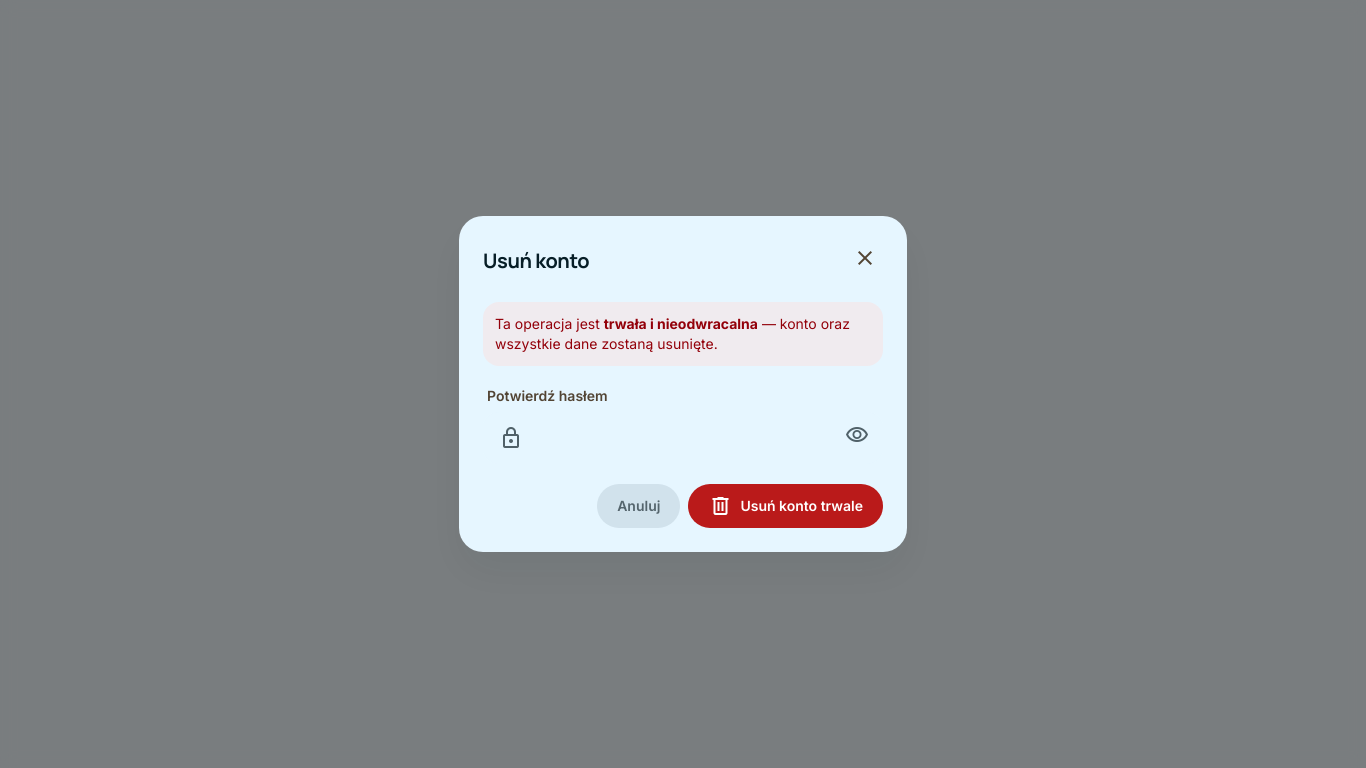
Scenario: DeleteAccountDialog › sukces → czyści sesję i przenosi na stronę główną
Type "haslo123" into the password field labelled "Potwierdź hasłem" at (683, 438), box top-left (483, 412), bottom-right (883, 464)
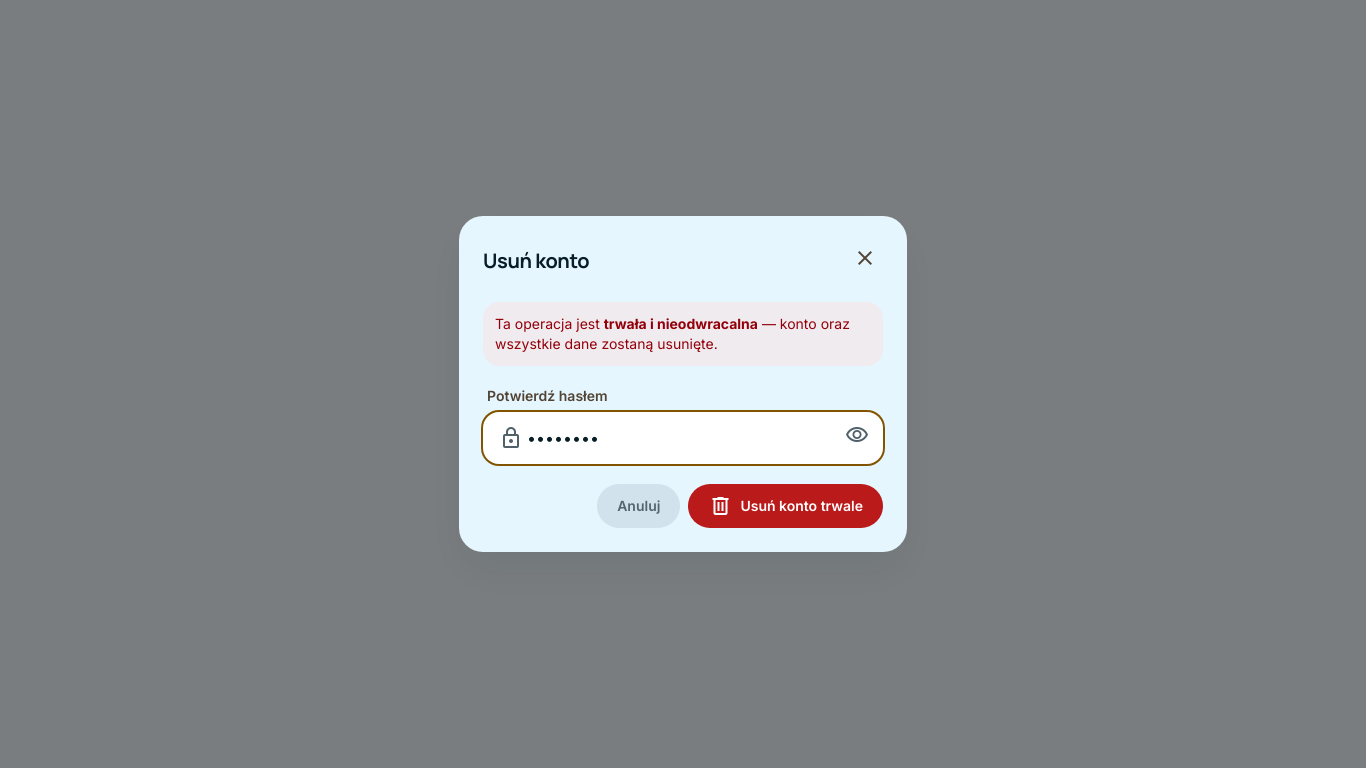
Click the button "Usuń konto trwale" at (786, 506), box top-left (688, 484), bottom-right (883, 528)
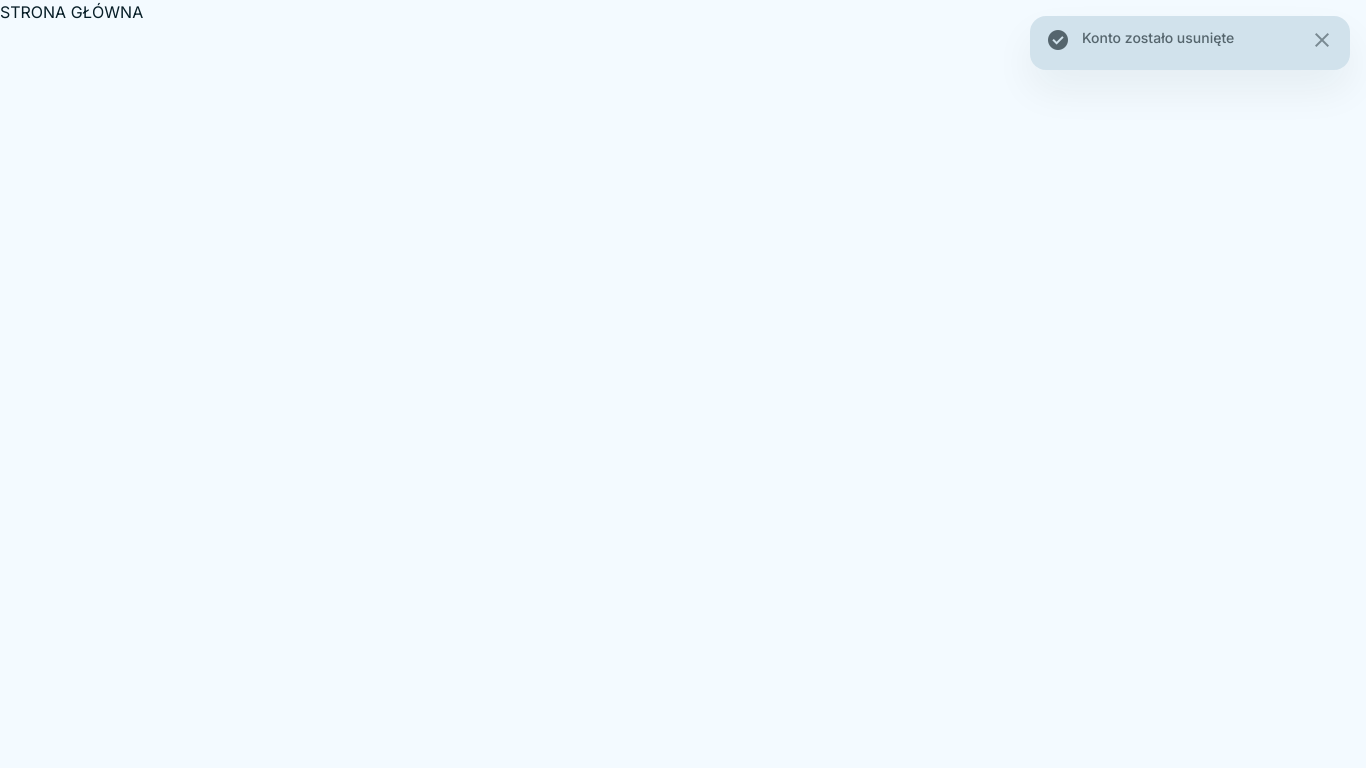
Check: the text "STRONA GŁÓWNA" is shown, box top-left (0, 2), bottom-right (143, 22)
